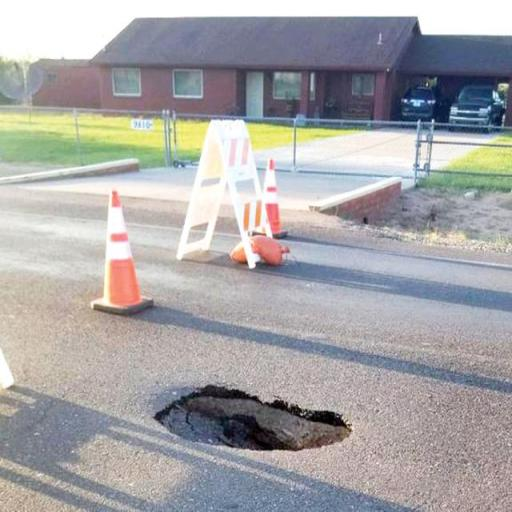Concentric_Crack: (155, 385, 351, 450)
